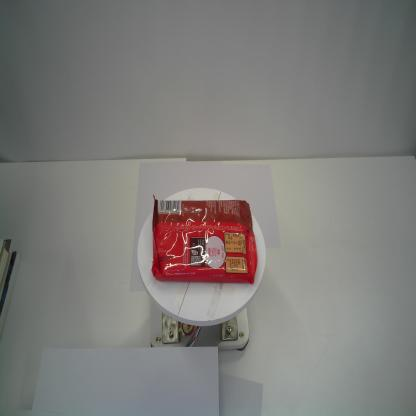Dessert: (151, 193, 258, 285)
